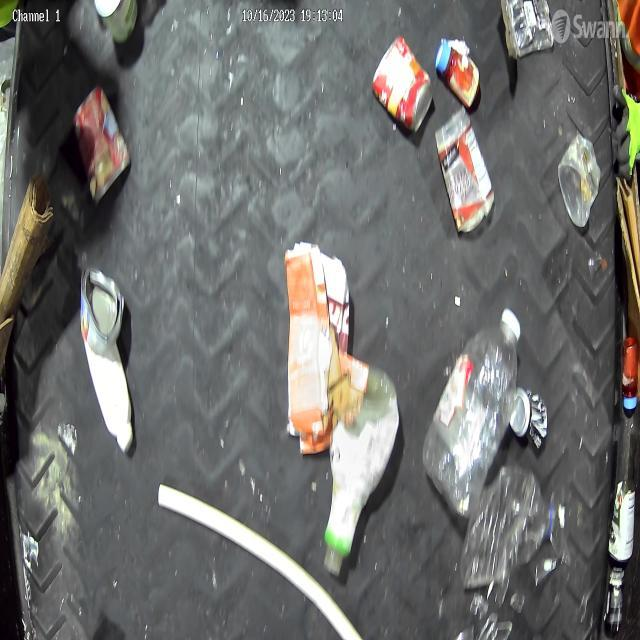can: (70, 85, 132, 206), (370, 36, 433, 137), (78, 262, 126, 354), (606, 474, 637, 564), (509, 384, 549, 452), (603, 566, 626, 634)
plastic_bottle: (422, 303, 524, 521), (458, 462, 560, 595)
